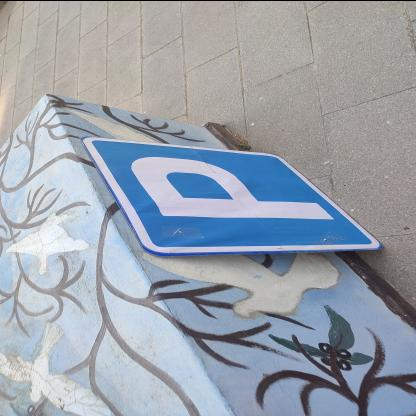Parking-Sign: (80, 135, 389, 259)
